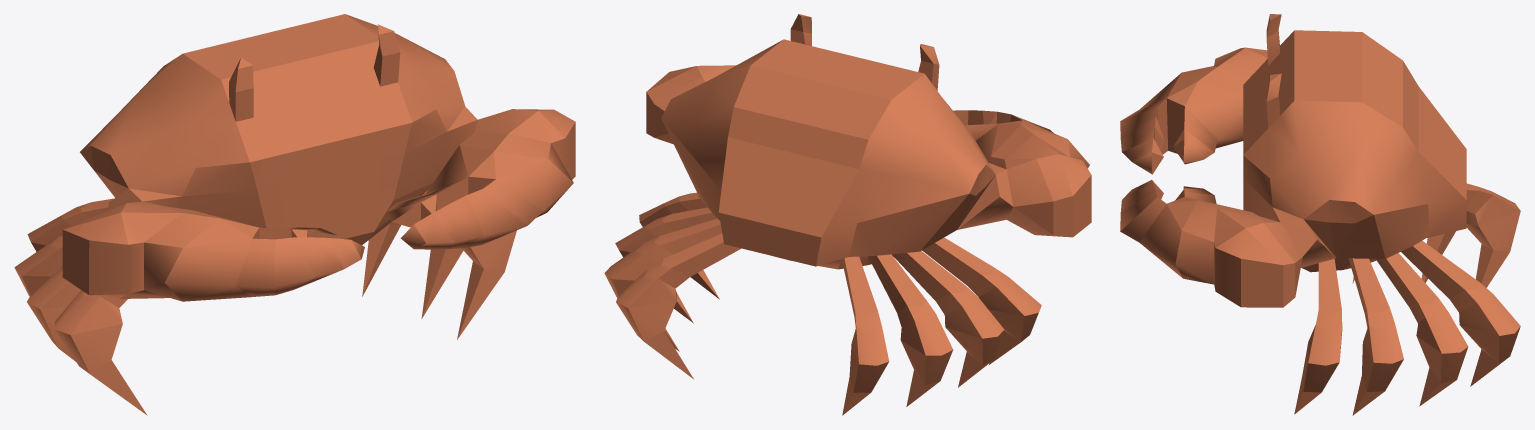
Rendered from basic_crab.glb.
The picture shows the model from 3 angles, left to right: view 1: azimuth 30°, elevation 25°; view 2: azimuth 150°, elevation 25°; view 3: azimuth 270°, elevation 25°; orthographic projection. The views are drawn at different scales.
Parts seen in each view (by area): view 1: Object_7; view 2: Object_7; view 3: Object_7.
Boxes of the visible parts, x1,y1,x2,y2 form: Object_7: (14, 14, 575, 415); Object_7: (604, 14, 1091, 415); Object_7: (1120, 14, 1520, 415).
Size of the model in its own units: 0.9892 by 0.6635 by 0.7868.
